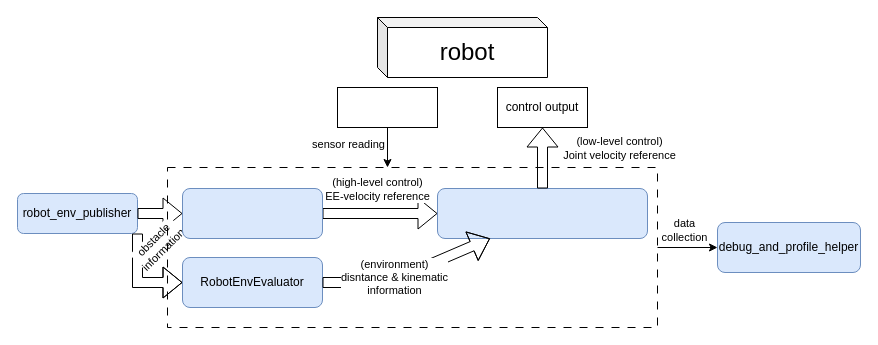
Image size: 878x345. Some labels were removed from this diagram. The shapes that lost their labels are listed below. From the top down, each one's centre as x and y in pixels, then its label:
At point 387,107: "sensed state".
At point 252,213: "multi_agent_vector_fields".
At point 542,213: "FLIQC_controller_joint_velocity_basic".
